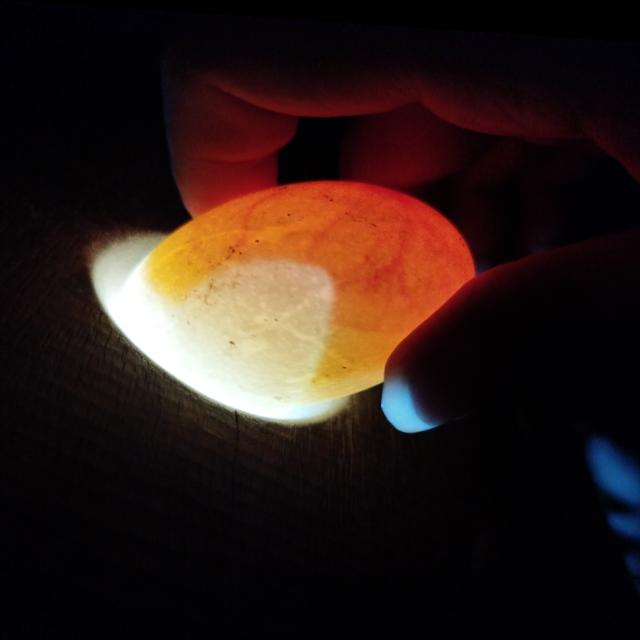Gema Quebrada: (144, 176, 475, 381)
